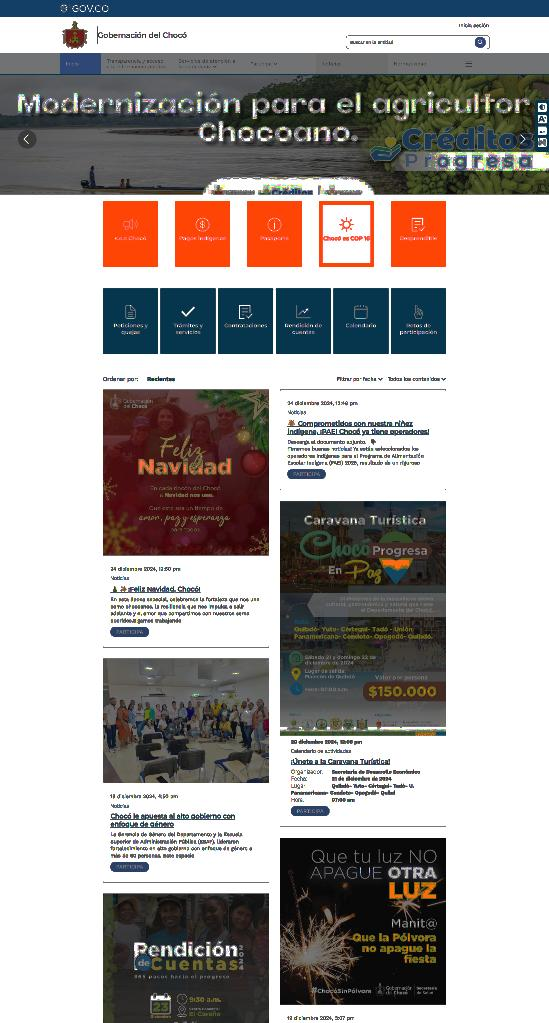banner principal: (0, 74, 549, 195)
barra accesibilidad: (535, 98, 549, 152)
barra govco: (59, 0, 508, 18)
btn atencion ciudadano: (178, 58, 236, 70)
btn buscador: (345, 34, 491, 50), (476, 36, 487, 48)
btn inicio: (64, 60, 80, 68)
btn inicio sesion: (457, 22, 491, 28)
btn normatividad: (394, 60, 428, 68)
btn noticias: (321, 60, 343, 68)
btn participa: (248, 58, 280, 70), (296, 808, 324, 816), (115, 629, 143, 637), (291, 472, 321, 478), (116, 864, 144, 870)
btn tramites: (168, 322, 208, 336)
btn transpariencia: (106, 58, 166, 70)
logogovco: (60, 4, 110, 15)
menu principal: (62, 52, 474, 72)
